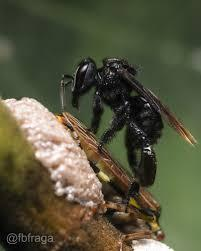Meliponula: (58, 51, 182, 192)
